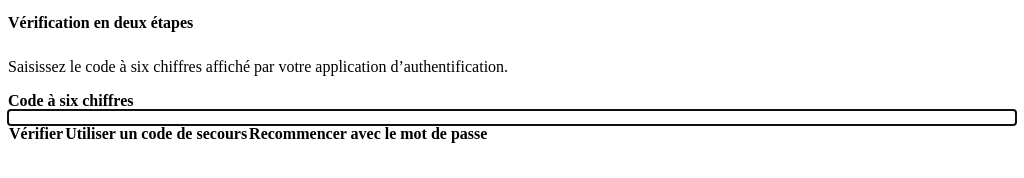
SecondFactorPage › stays on the step when the account has spent its budget: the sign-in is not over, and retyping the password would only cost a hash
In the field labelled "Code à six chiffres": (512, 118) [8,110,1016,125], type "000000"
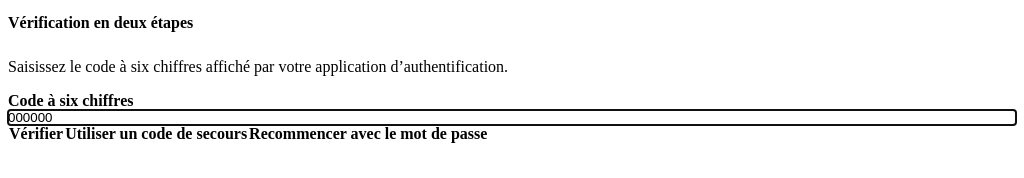
Click the button "Vérifier": (36, 134) [8,125,64,143]
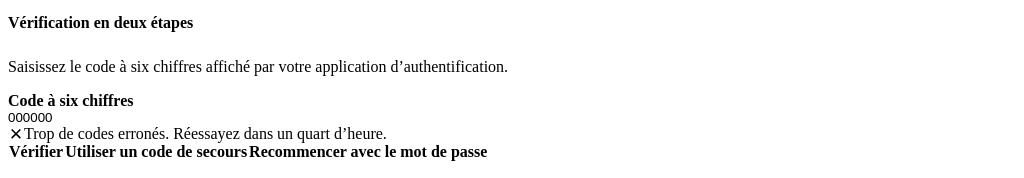
Expected: the message reads "Trop de codes erronés. Réessayez dans un quart d’heure.", [24,125,387,142]
